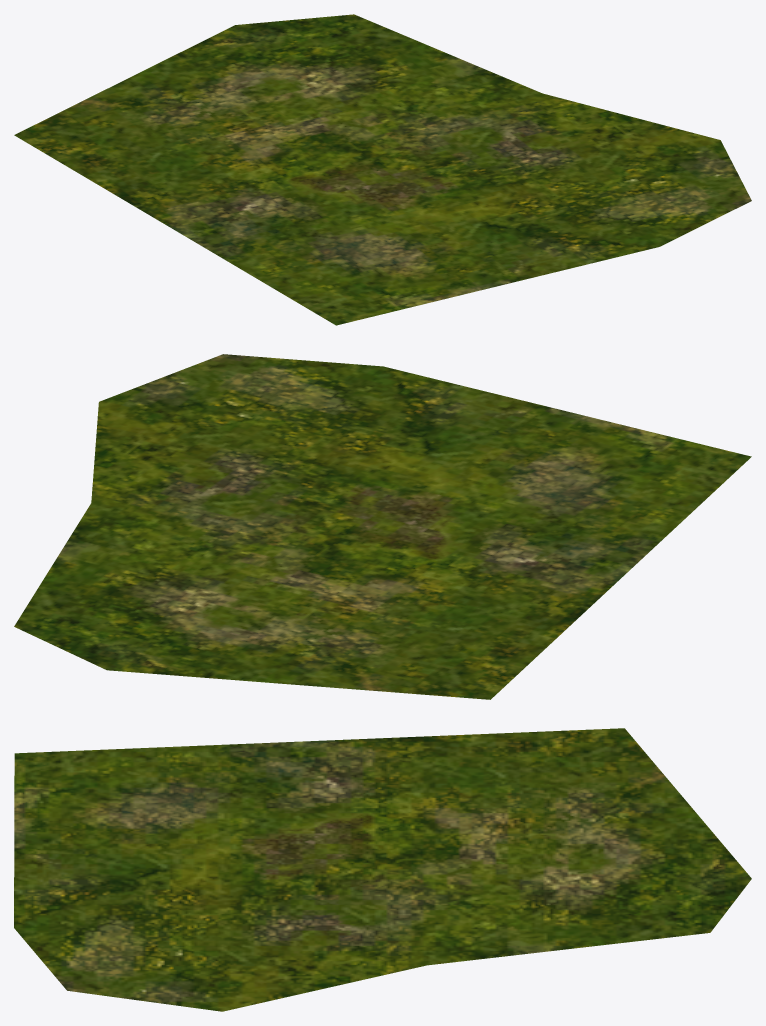
Rendered from OVERHILL_A_01_LINE28.fbx.
3 views of the same model, one above another, from view 1: azimuth 30°, elevation 25°; view 2: azimuth 150°, elevation 25°; view 3: azimuth 270°, elevation 25° (orthographic). The views are drawn at different scales.
Visible parts, largest first — view 1: OVERHILL_A_01_LINE28; view 2: OVERHILL_A_01_LINE28; view 3: OVERHILL_A_01_LINE28.
Boxes of the visible parts, left/top/right/bottom form: OVERHILL_A_01_LINE28: left=14, top=14, right=751, bottom=325; OVERHILL_A_01_LINE28: left=14, top=354, right=751, bottom=699; OVERHILL_A_01_LINE28: left=14, top=728, right=751, bottom=1011.
Bounding box in the file's own units: 17373 × 0.00311 × 19110.
Materials: 1 (1 with a texture image).
